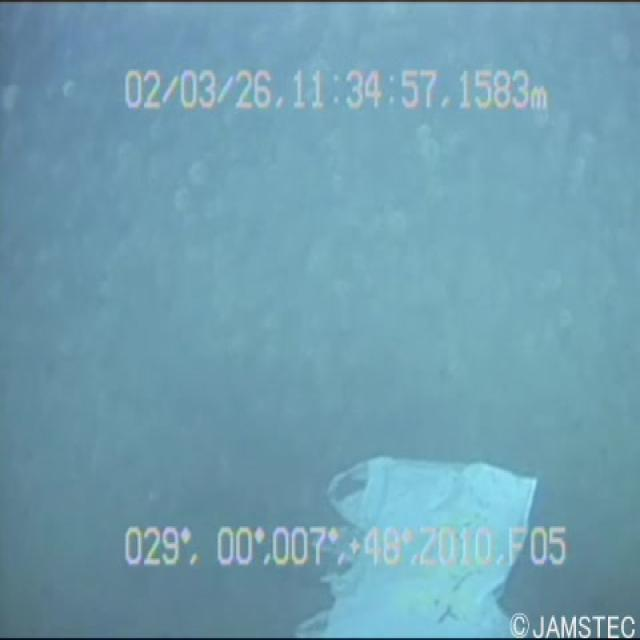plastic: (298, 420, 542, 638)
